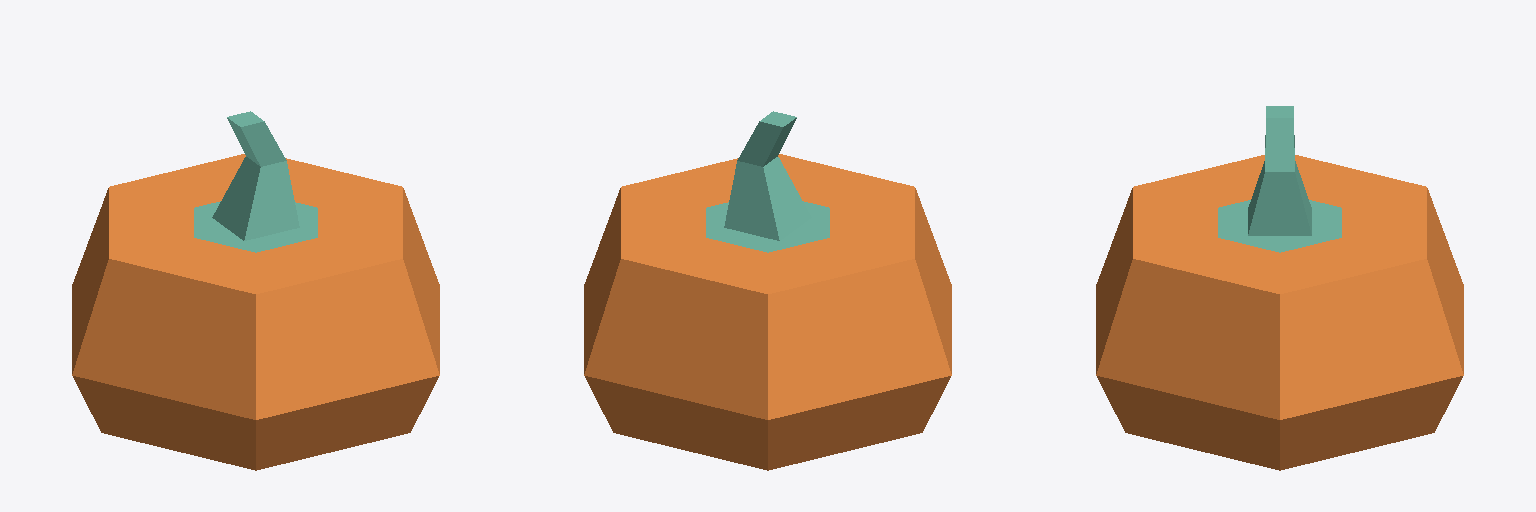
Rendered from pumpkin.obj.
3 views of the same model, side by side, from view 1: azimuth 30°, elevation 25°; view 2: azimuth 150°, elevation 25°; view 3: azimuth 270°, elevation 25° (orthographic).
Visible parts, largest first — view 1: pumpkin; view 2: pumpkin; view 3: pumpkin.
Boxes of the visible parts, x1=… form: pumpkin: x1=72, y1=111, x2=439, y2=470; pumpkin: x1=584, y1=111, x2=951, y2=470; pumpkin: x1=1096, y1=106, x2=1463, y2=470.
Bounding box in the file's own units: 0.357 × 0.2583 × 0.3092.